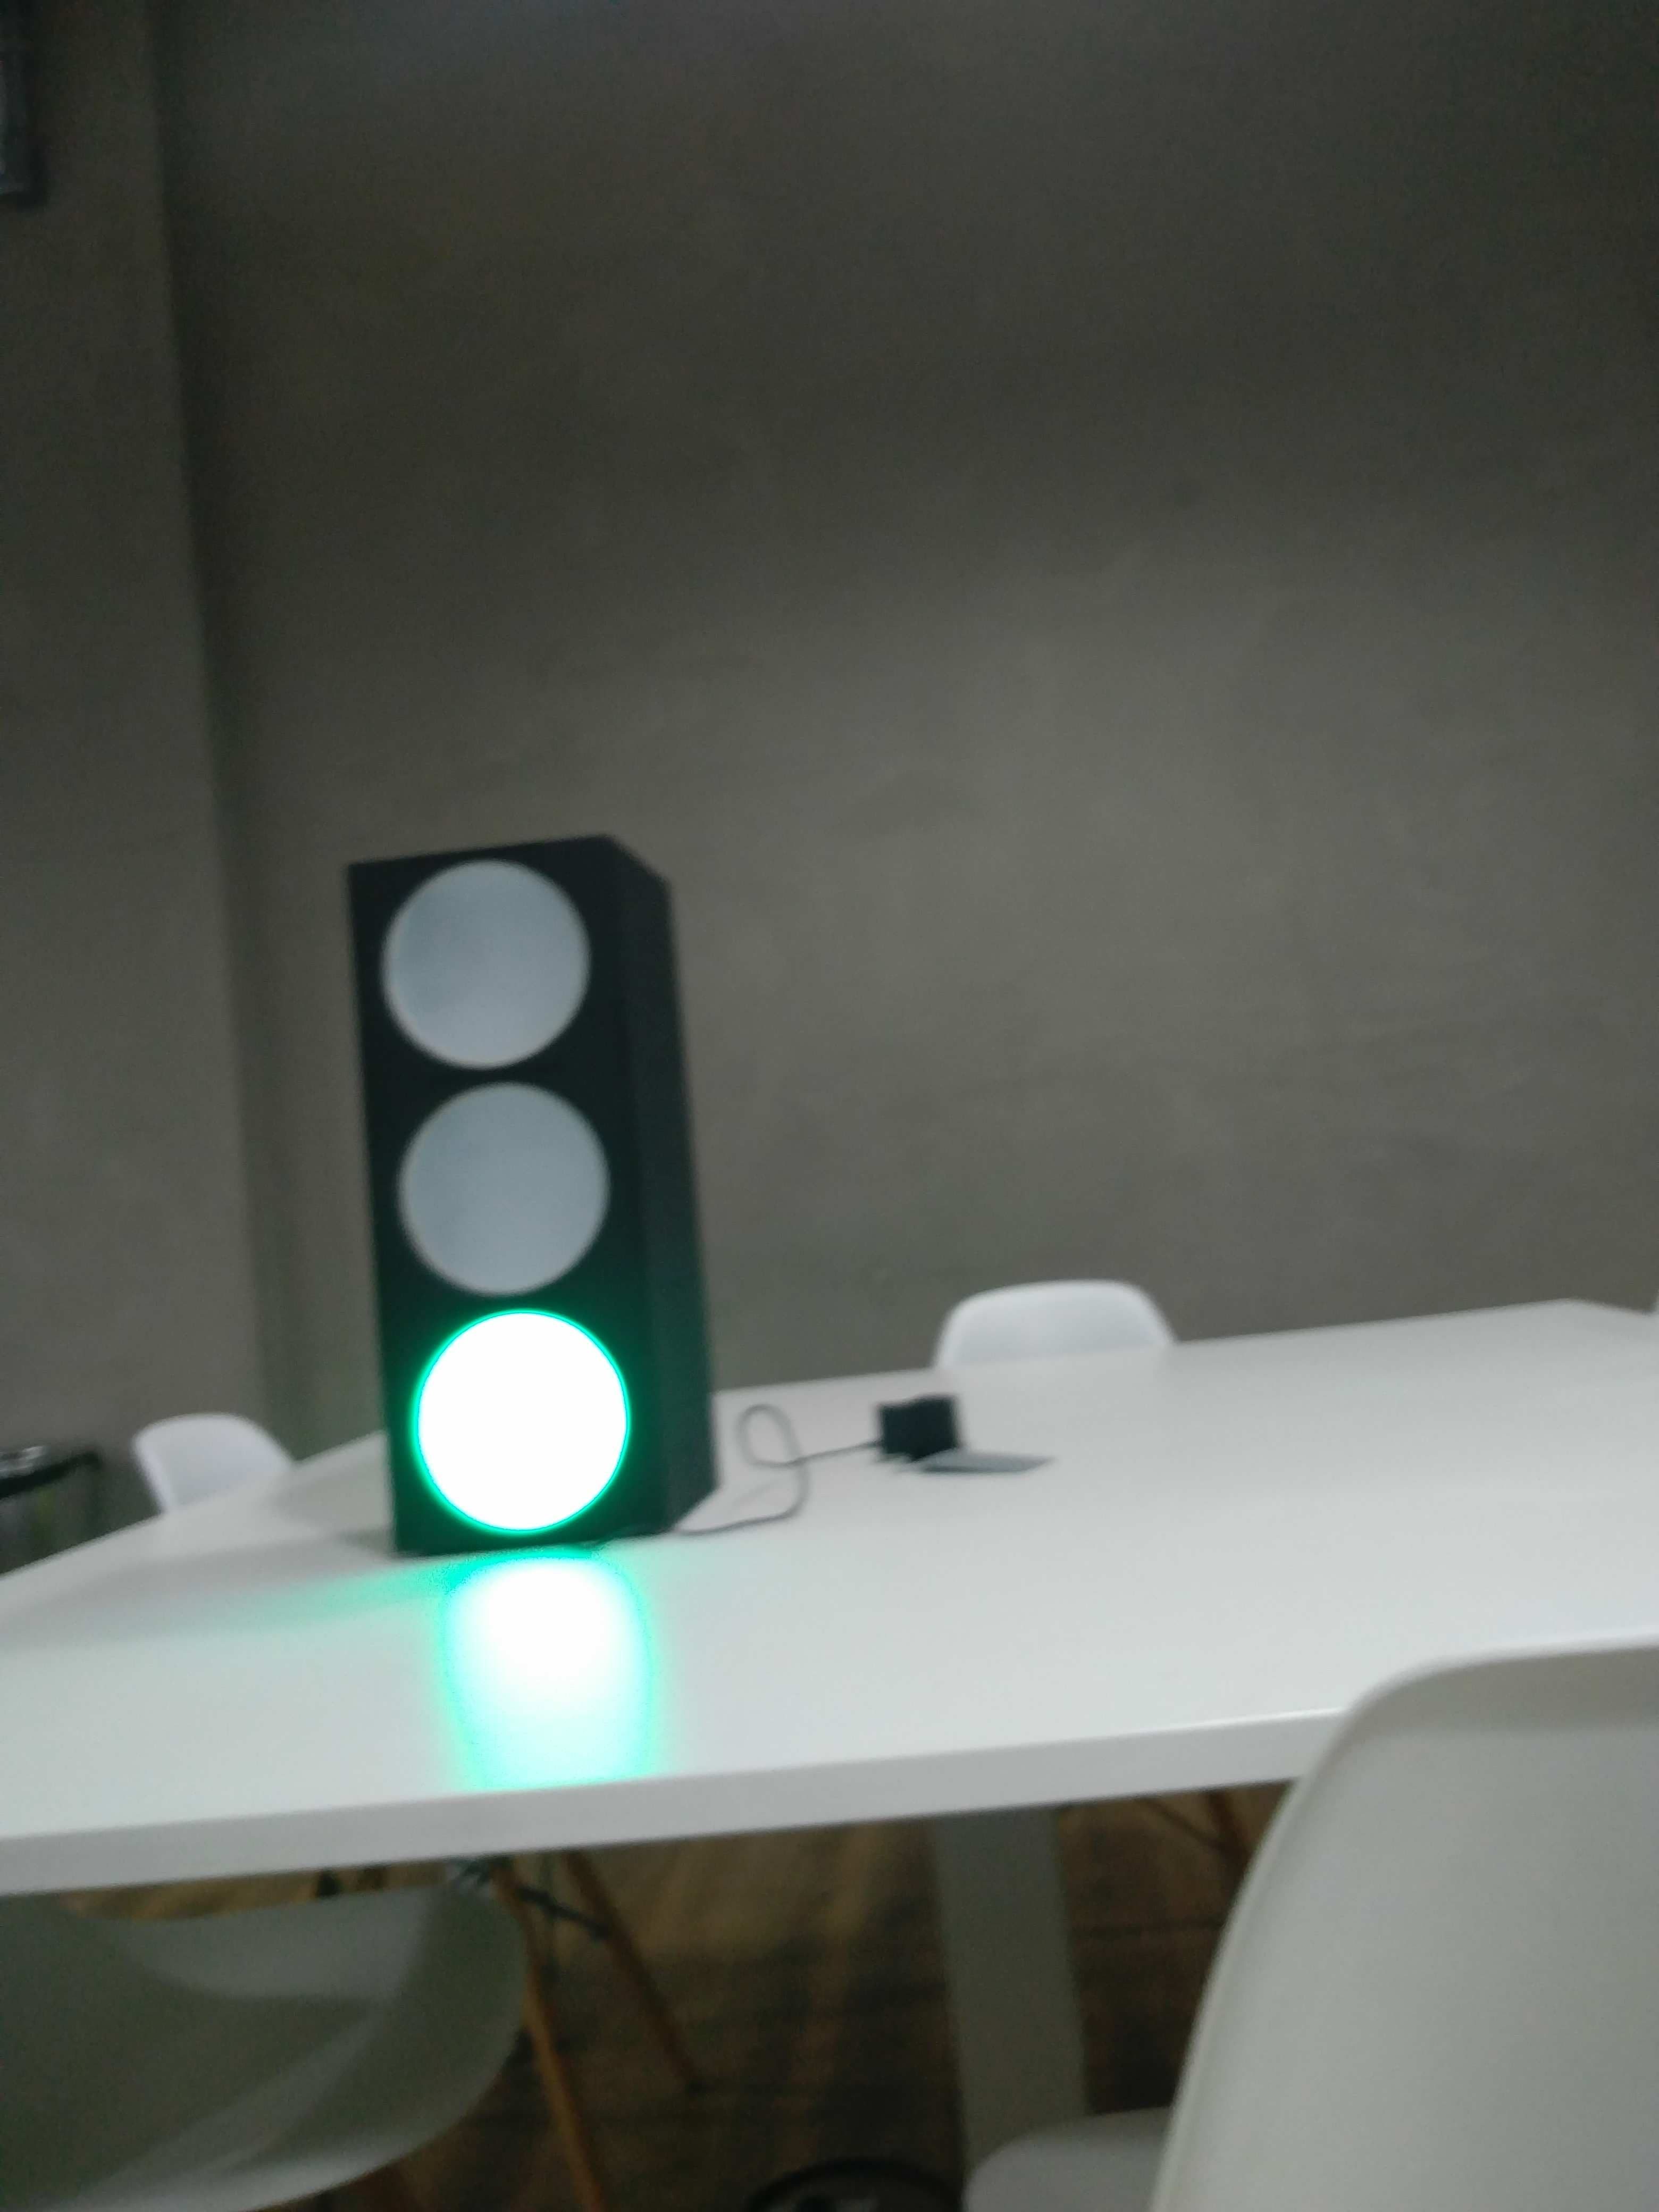go: (328, 819, 734, 1561)
